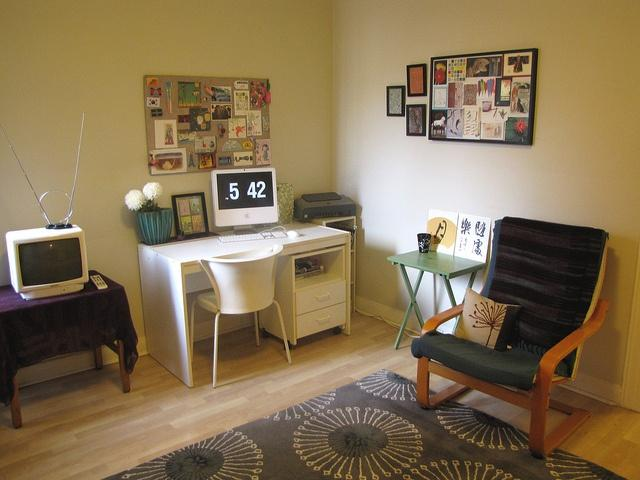AIO PC-Monitor-TV: (211, 166, 279, 234)
Dispenser: (289, 191, 357, 222)
Kursi: (189, 243, 292, 388)
